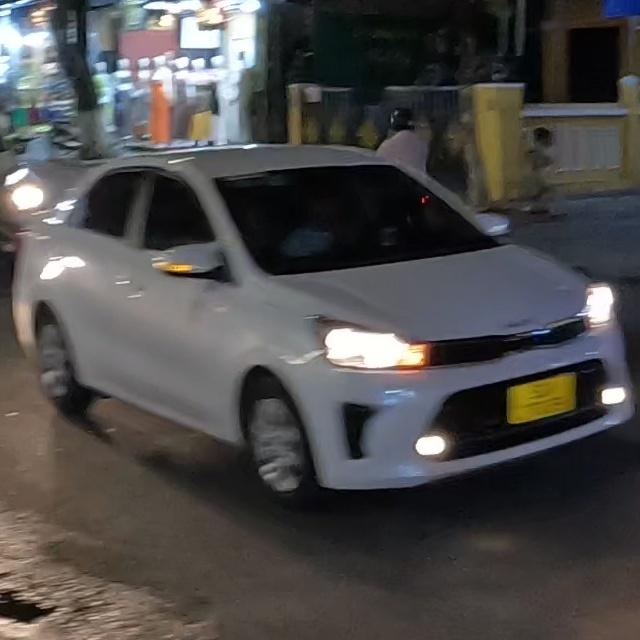license-plate: (506, 373, 576, 424)
